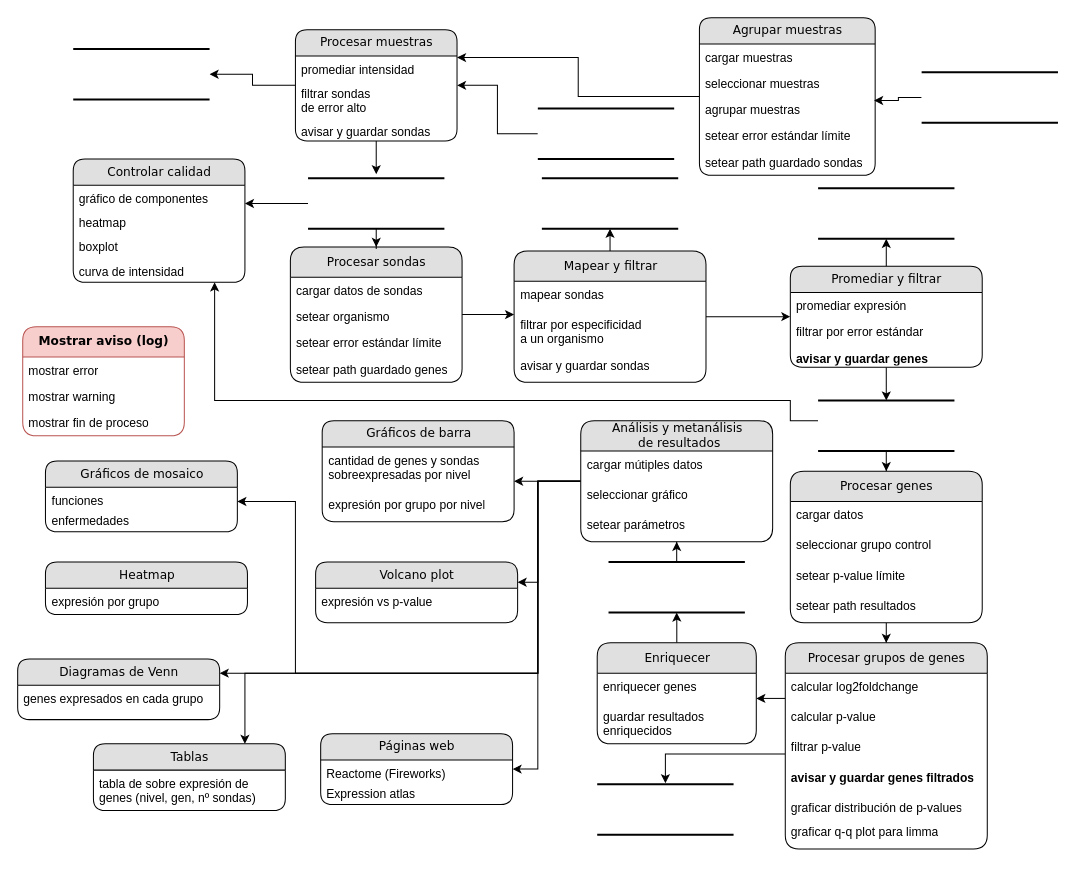
Image size: 1077x870. Some labels were removed from this diagram. Each missing label, with the centre of its shape:
Datos de muestras: point 605,133
Genes de alto error: point 886,213
Genes expresados diferencialmente enriquecidos: point 676,587
Genes no expresados diferencialmente: point 665,809
Genes por grupo: point 886,425
Metadatos de muestras: point 989,97
Sondas de error alto: point 141,73
Sondas e intensidad por grupo: point 376,203
Sondas inespecíficas: point 609,203
